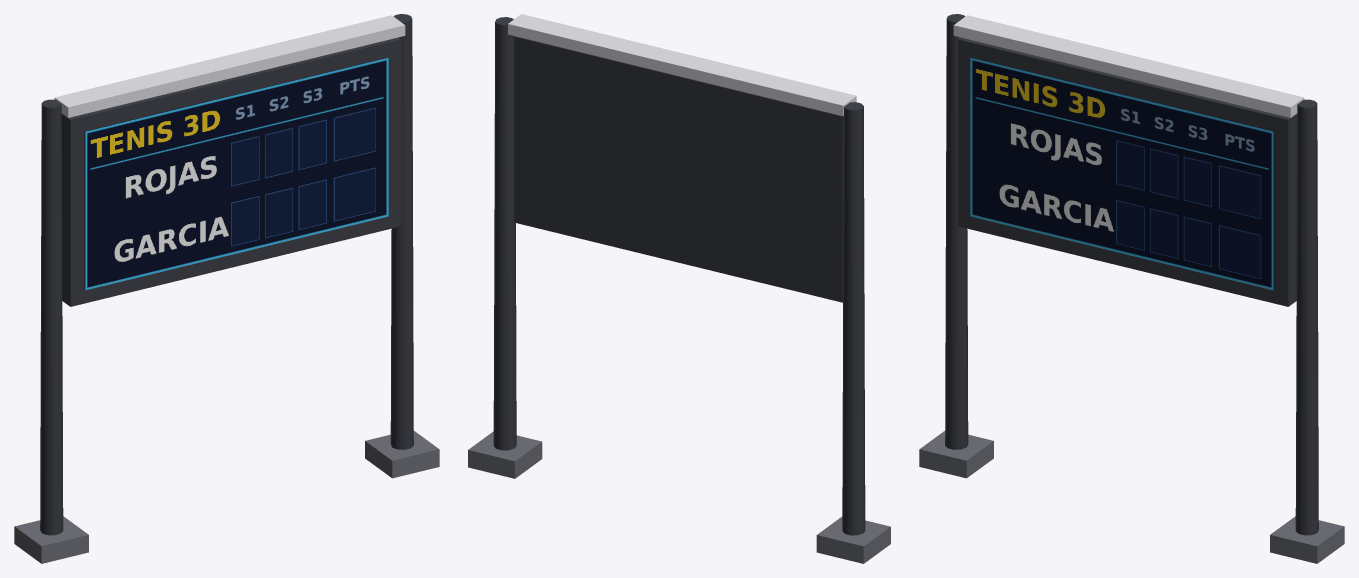
The model's file is Marcador.obj.
The picture shows the model from 3 angles, left to right: view 1: azimuth 30°, elevation 25°; view 2: azimuth 150°, elevation 25°; view 3: azimuth 330°, elevation 25°; orthographic projection.
Parts seen in each view (by area): view 1: Marcador; view 2: Marcador; view 3: Marcador.
Boxes of the visible parts, x1=… form: Marcador: x1=14, y1=14, x2=439, y2=563; Marcador: x1=468, y1=14, x2=890, y2=563; Marcador: x1=919, y1=14, x2=1344, y2=563.
Size of the model in its own units: 11.8 by 12.65 by 1.4.
1 material, 1 textured.
